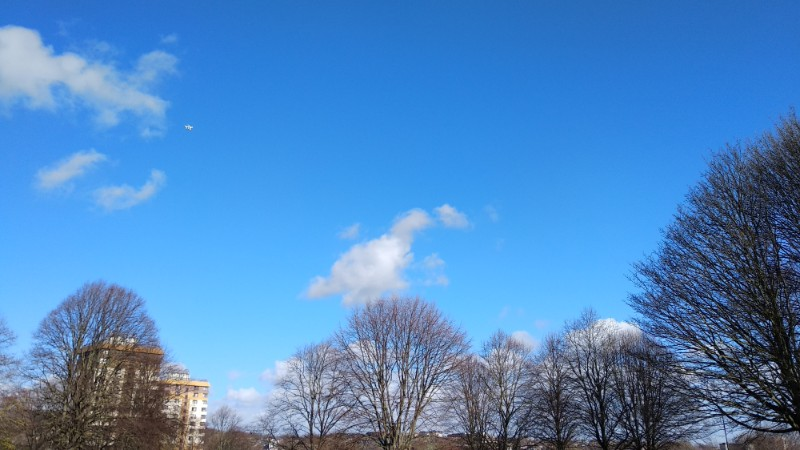drone: (182, 123, 195, 131)
